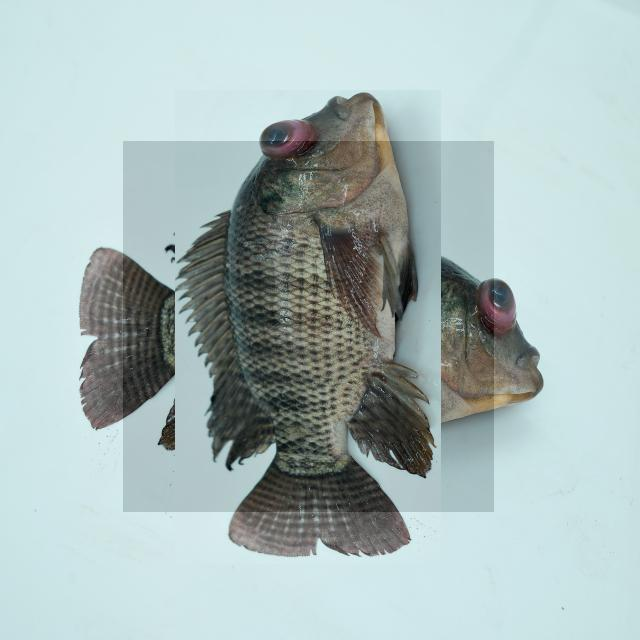streptococcus Disease: (123, 141, 494, 512)
